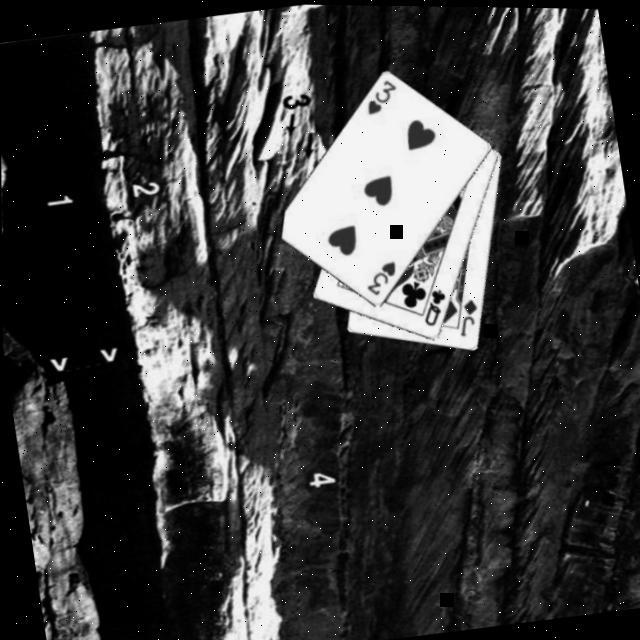3H: (361, 254, 404, 298), (361, 72, 404, 116)
JD: (454, 293, 485, 337)
QC: (418, 282, 453, 327)
